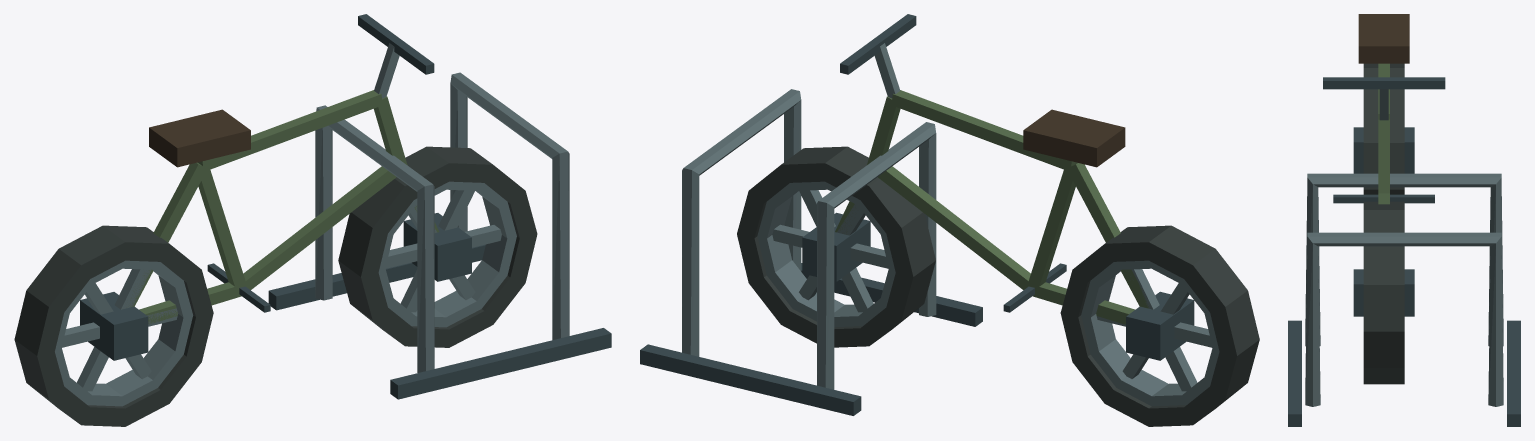
File: Prop_Daily_BicycleStand_001_LOD1.glb
3 views of the same model, side by side, from view 1: azimuth 30°, elevation 25°; view 2: azimuth 150°, elevation 25°; view 3: azimuth 270°, elevation 25° (orthographic). The views are drawn at different scales.
Visible parts, largest first — view 1: Prop_Daily_BicycleStand_001_LOD1; view 2: Prop_Daily_BicycleStand_001_LOD1; view 3: Prop_Daily_BicycleStand_001_LOD1.
Boxes of the visible parts, x1,y1,x2,y2 form: Prop_Daily_BicycleStand_001_LOD1: [14, 14, 611, 426]; Prop_Daily_BicycleStand_001_LOD1: [640, 14, 1259, 426]; Prop_Daily_BicycleStand_001_LOD1: [1288, 14, 1520, 426].
Bounding box in the file's own units: 2.17 × 1.21 × 0.915.
